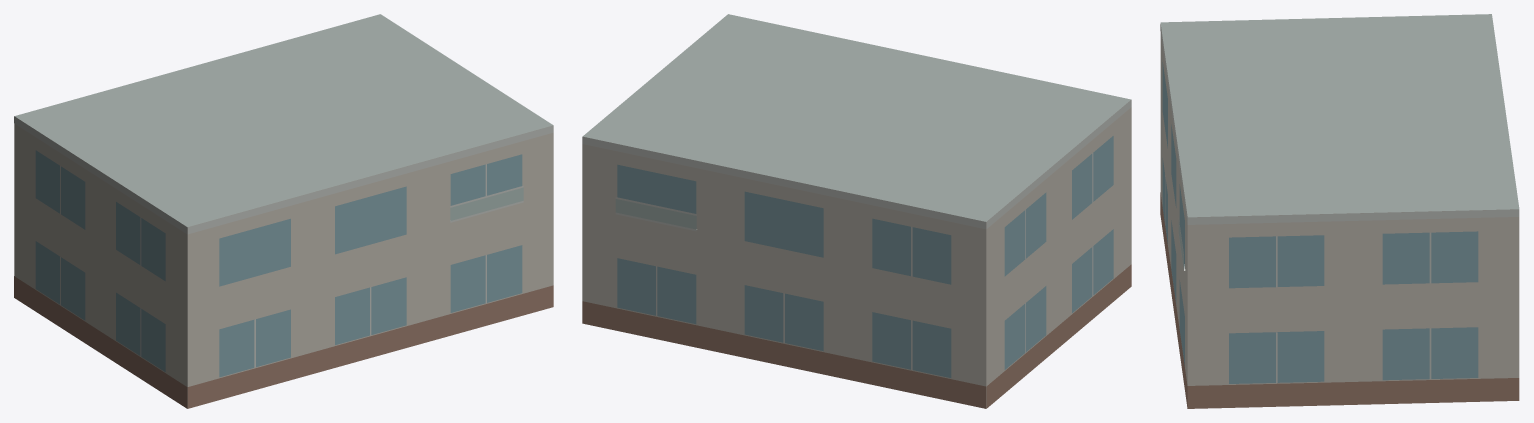
Rendered from survey-upis-32731948.glb.
The picture shows the model from 3 angles, left to right: view 1: azimuth 30°, elevation 25°; view 2: azimuth 150°, elevation 25°; view 3: azimuth 270°, elevation 25°; orthographic projection. The views are drawn at different scales.
Parts seen in each view (by area): view 1: survey-upis-32731948.tmp; view 2: survey-upis-32731948.tmp; view 3: survey-upis-32731948.tmp.
Part boxes in pixels (x1,y1,x2,y2): survey-upis-32731948.tmp: (14,14,553,408); survey-upis-32731948.tmp: (582,14,1131,408); survey-upis-32731948.tmp: (1160,14,1519,408).
Size of the model in its own units: 13.9 by 6.1 by 10.37.
